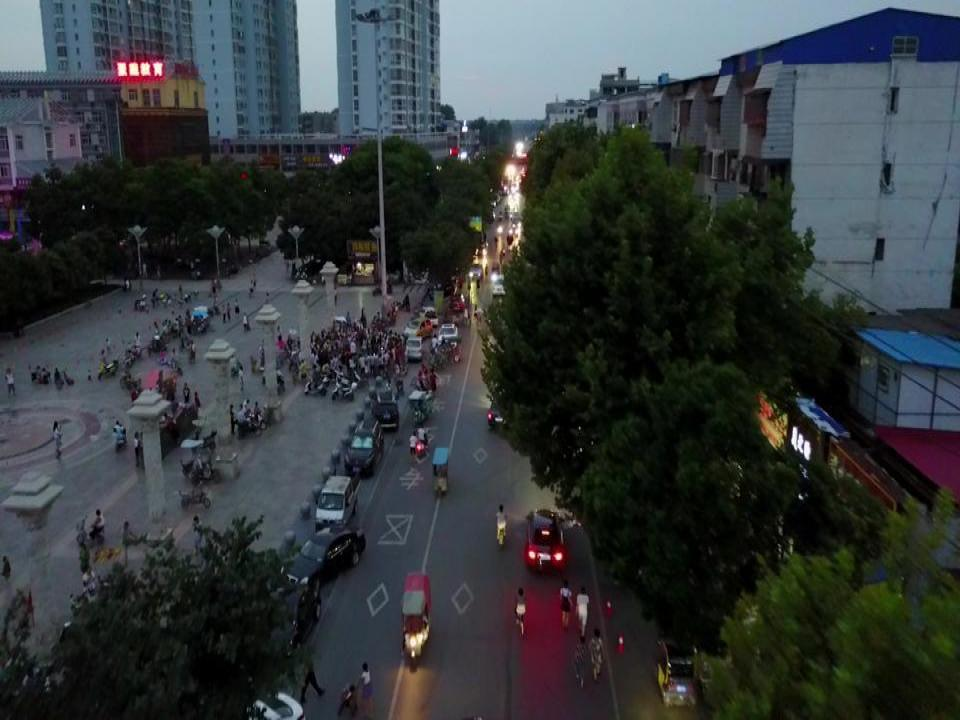car: (277, 523, 367, 592), (262, 582, 322, 658), (218, 689, 306, 720), (525, 508, 567, 572), (345, 419, 384, 477), (486, 380, 518, 431), (371, 389, 399, 432), (403, 317, 433, 343), (435, 321, 458, 351), (448, 287, 470, 313), (405, 335, 425, 361), (417, 305, 439, 328), (491, 270, 508, 298), (467, 261, 483, 280)
truck: (314, 472, 361, 531)
